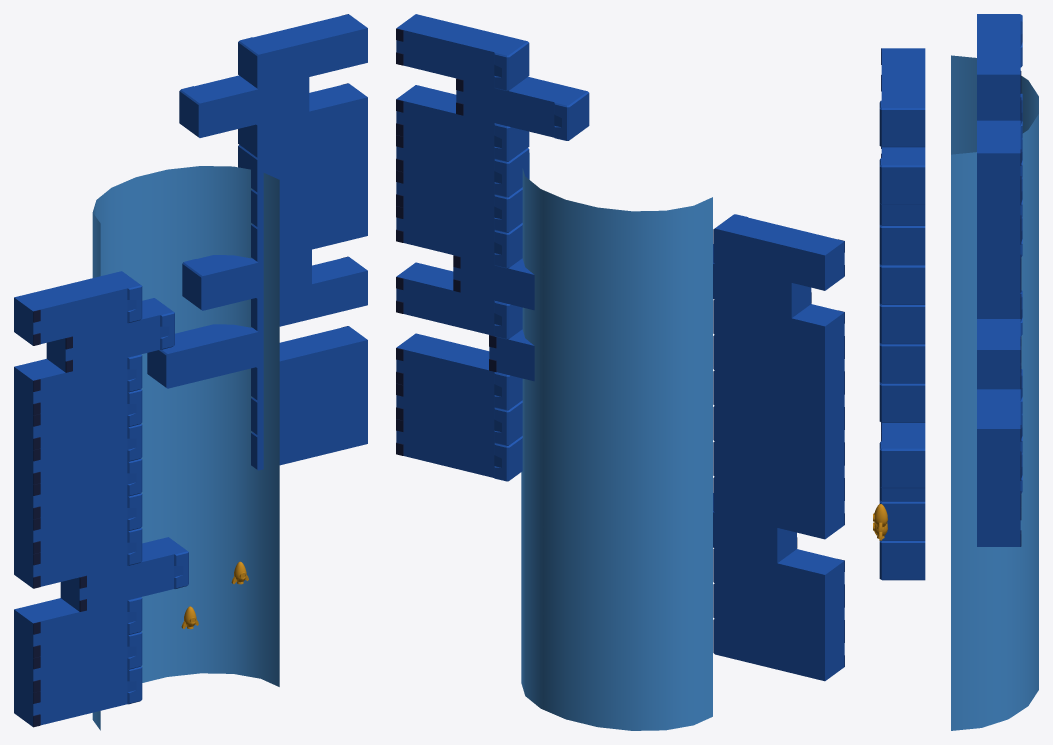
3 renders of one model, left to right at view 1: azimuth 30°, elevation 25°; view 2: azimuth 150°, elevation 25°; view 3: azimuth 270°, elevation 25°, orthographic. The views are drawn at different scales.
Parts seen in each view (by area): view 1: Cylinder006, Cylinder007, Cylinder003, Cylinder002, Box046, Box044, Cylinder004, Cylinder005, Box045, Box035, Box053, Box047 (+18 smaller); view 2: Cylinder002, Cylinder007, Cylinder003, Cylinder006, Cylinder004, Cylinder005, Box046, Box044, Box054, Box045, Box035, Box047 (+18 smaller); view 3: Cylinder007, Cylinder002, Cylinder006, Box044, Box046, Cylinder005, Cylinder004, Cylinder003, Box054, Box047, Box052, Box036 (+18 smaller).
Boxes of the visible parts, bbox=[...] form: Cylinder006: bbox=[92, 166, 279, 277]; Cylinder007: bbox=[92, 588, 279, 730]; Cylinder003: bbox=[141, 419, 279, 517]; Cylinder002: bbox=[141, 504, 279, 602]; Box046: bbox=[238, 14, 367, 89]; Box044: bbox=[14, 271, 142, 345]; Cylinder004: bbox=[141, 342, 279, 433]; Cylinder005: bbox=[110, 250, 279, 348]; Box045: bbox=[179, 75, 309, 137]; Box035: bbox=[14, 597, 142, 657]; Box053: bbox=[147, 324, 263, 388]; Box047: bbox=[238, 83, 367, 158]; Cylinder002: bbox=[521, 510, 712, 644]; Cylinder007: bbox=[521, 597, 712, 730]; Cylinder003: bbox=[521, 428, 712, 557]; Cylinder006: bbox=[522, 153, 712, 297]; Cylinder004: bbox=[522, 357, 712, 470]; Cylinder005: bbox=[522, 255, 712, 384]; Box046: bbox=[396, 14, 529, 90]; Box044: bbox=[713, 214, 844, 290]; Box054: bbox=[396, 333, 522, 410]; Box045: bbox=[456, 77, 589, 140]; Box035: bbox=[713, 548, 844, 610]; Box047: bbox=[396, 85, 529, 161]; Cylinder007: bbox=[951, 594, 1038, 730]; Cylinder002: bbox=[951, 498, 1038, 634]; Cylinder006: bbox=[951, 55, 1038, 250]; Box044: bbox=[879, 48, 925, 147]; Box046: bbox=[977, 14, 1022, 113]; Cylinder005: bbox=[951, 151, 1038, 346]; Cylinder004: bbox=[951, 306, 1038, 442]; Cylinder003: bbox=[951, 402, 1038, 538]; Box054: bbox=[977, 369, 1022, 468]; Box047: bbox=[977, 93, 1022, 192]; Box052: bbox=[977, 290, 1022, 389]; Box036: bbox=[879, 422, 925, 488].
Size of the model in its own units: 34.12 by 54.22 by 11.46.
